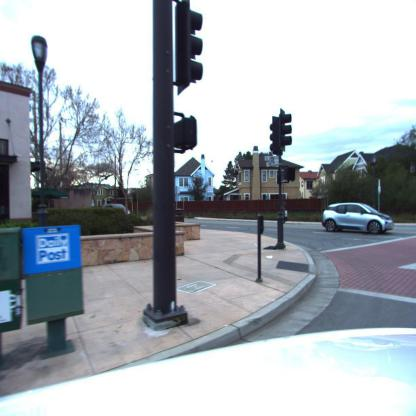car: (321, 202, 395, 234)
traffic light: (174, 4, 204, 90), (278, 111, 292, 150), (270, 116, 282, 154)
